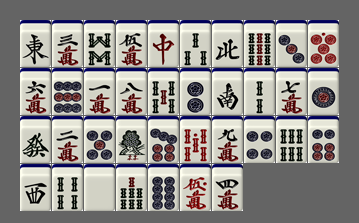0m: (180, 164, 211, 211)
0p: (308, 20, 339, 67)
0s: (180, 116, 211, 163)
1m: (84, 68, 115, 115)
1p: (308, 68, 339, 115)
1s: (116, 116, 147, 163)
1z: (20, 20, 51, 67)
2m: (52, 116, 83, 163)
2p: (180, 68, 211, 115)
2s: (244, 68, 275, 115)
2z: (212, 68, 243, 115)
3m: (52, 20, 83, 67)
3p: (276, 20, 307, 67)
3s: (180, 20, 211, 67)
3z: (20, 164, 51, 211)
4m: (212, 164, 243, 211)
4p: (244, 116, 275, 163)
4s: (52, 164, 83, 211)
4z: (212, 20, 243, 67)
5m: (116, 20, 147, 67)
5p: (84, 116, 115, 163)
5s: (148, 68, 179, 115)
5z: (84, 164, 115, 211)
6m: (20, 68, 51, 115)
6p: (308, 116, 339, 163)
6s: (276, 116, 307, 163)
6z: (20, 116, 51, 163)
7m: (276, 68, 307, 115)
7p: (148, 116, 179, 163)
7s: (116, 164, 147, 211)
7z: (148, 20, 179, 67)
8m: (116, 68, 147, 115)
8p: (148, 164, 179, 211)
8s: (84, 20, 115, 67)
9m: (212, 116, 243, 163)
9p: (52, 68, 83, 115)
9s: (244, 20, 275, 67)
